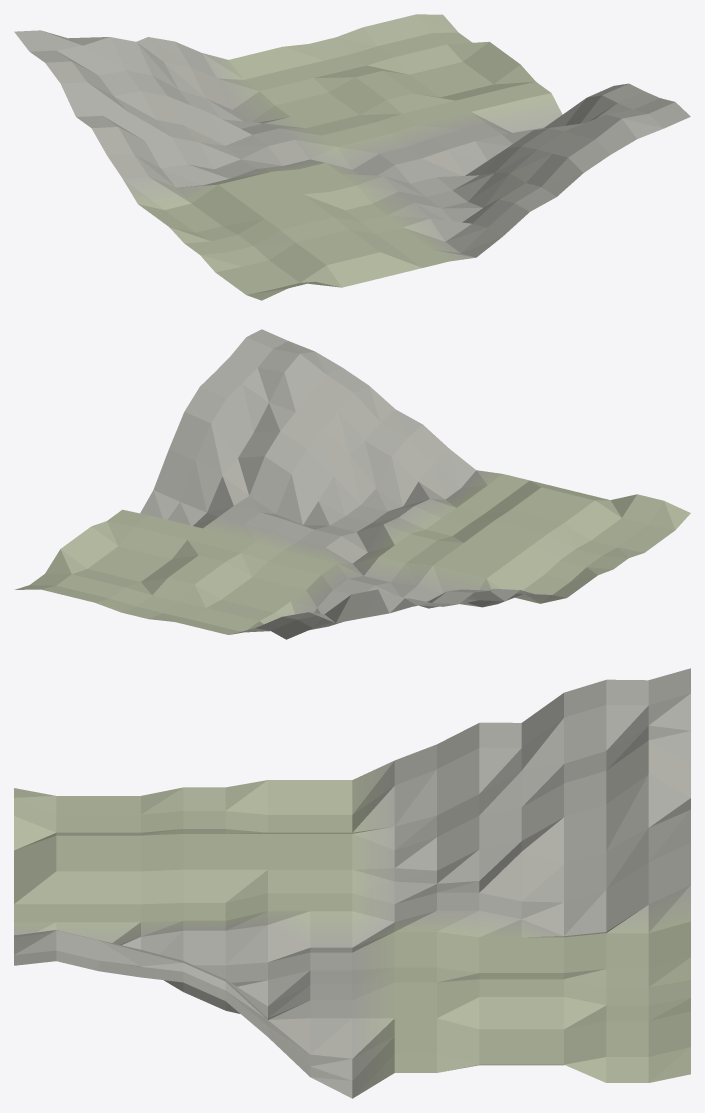
The picture shows the model from 3 angles, top to bottom: view 1: azimuth 30°, elevation 25°; view 2: azimuth 150°, elevation 25°; view 3: azimuth 270°, elevation 25°; orthographic projection. The views are drawn at different scales.
Bounding box in the file's own units: 32 × 7.55 × 32.
